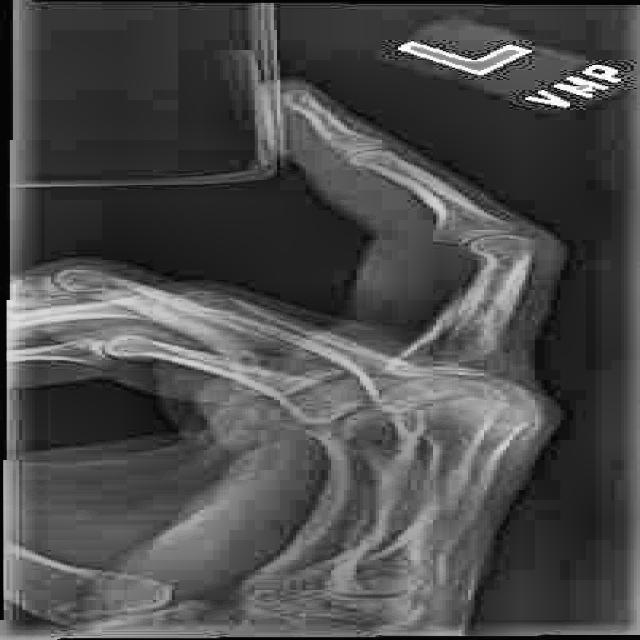fingers positive: (392, 277, 532, 382)
